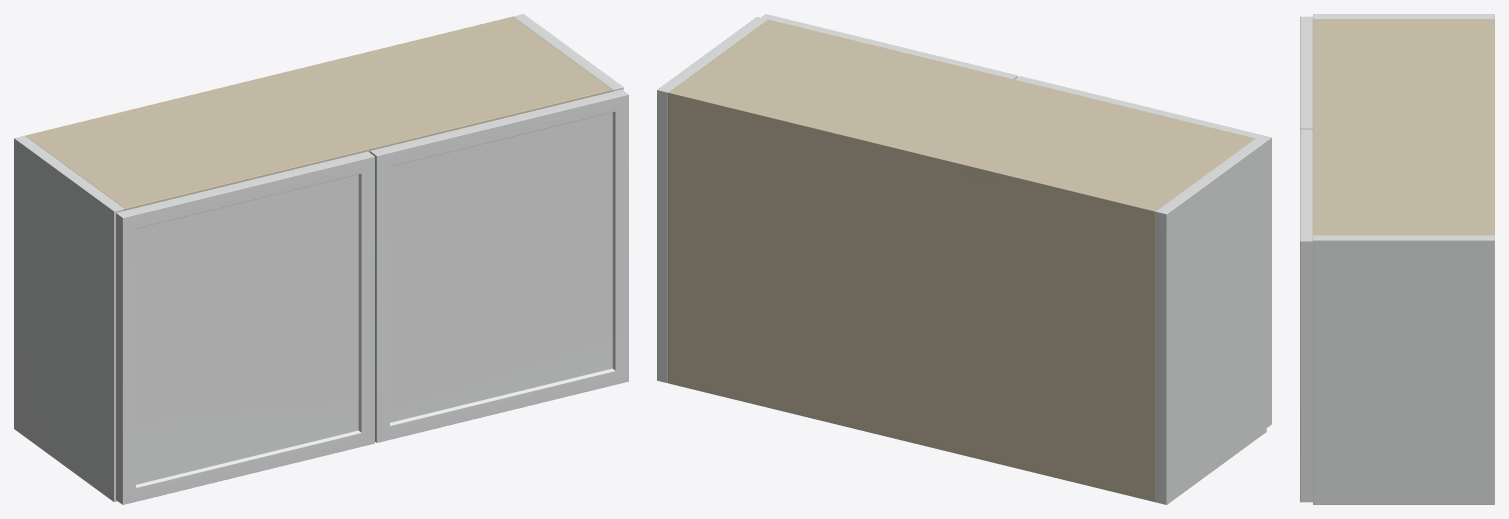
File: oppein-ply-ssw-w3318.glb
The picture shows the model from 3 angles, left to right: view 1: azimuth 30°, elevation 25°; view 2: azimuth 150°, elevation 25°; view 3: azimuth 270°, elevation 25°; orthographic projection. The views are drawn at different scales.
Visible parts, largest first — view 1: Door, Door.001, Cabinet top, Cabinet side, Cabinet back, Cabinet side.001; view 2: Cabinet back, Cabinet top, Cabinet side, Cabinet side.001, Door, Cabinet bottom, Door.001; view 3: Cabinet side.001, Cabinet top, Door.001, Cabinet back, Door, Cabinet side.
Part boxes in pixels (x1,y1,x2,y2): Door: [116, 151, 374, 504]; Door.001: [370, 89, 628, 442]; Cabinet top: [29, 17, 612, 210]; Cabinet side: [14, 135, 124, 501]; Cabinet back: [25, 16, 515, 138]; Cabinet side.001: [513, 14, 623, 91]; Cabinet back: [668, 91, 1158, 502]; Cabinet top: [668, 19, 1255, 221]; Cabinet side: [1156, 138, 1266, 504]; Cabinet side.001: [657, 17, 767, 383]; Door: [1015, 76, 1271, 427]; Cabinet bottom: [668, 373, 1155, 501]; Door.001: [761, 14, 1017, 79]; Cabinet side.001: [1313, 235, 1494, 504]; Cabinet top: [1313, 19, 1494, 235]; Door.001: [1300, 129, 1312, 502]; Cabinet back: [1487, 19, 1494, 235]; Door: [1300, 16, 1312, 129]; Cabinet side: [1313, 14, 1494, 18].
Size of the model in its own units: 0.8382 by 0.4572 by 0.3048.
